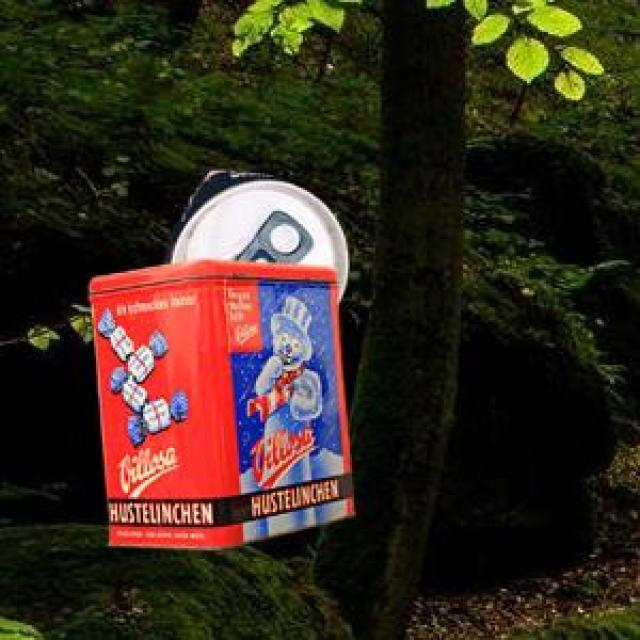Can: (86, 257, 351, 547), (161, 167, 345, 302)
